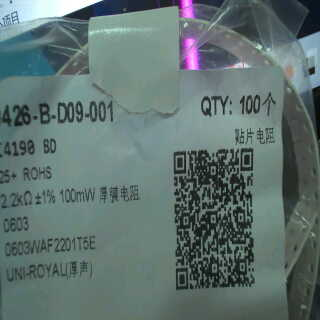2.2kR: (1, 188, 34, 211)
